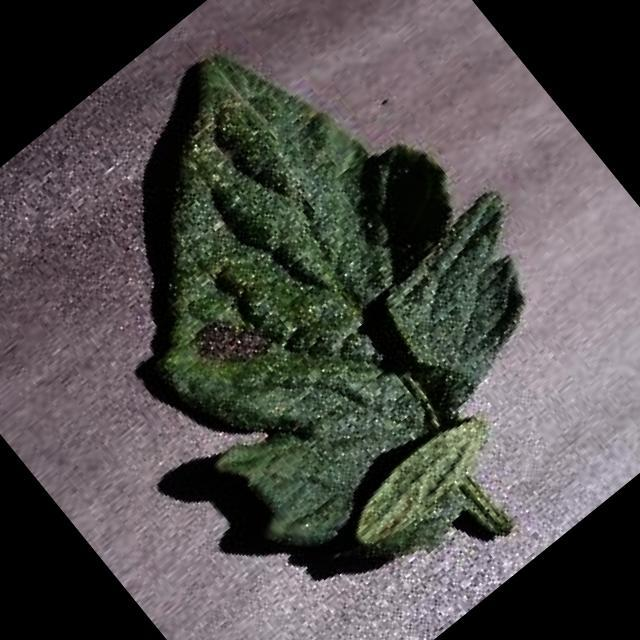Tomato Early blight leaf: (13, 0, 637, 613)
